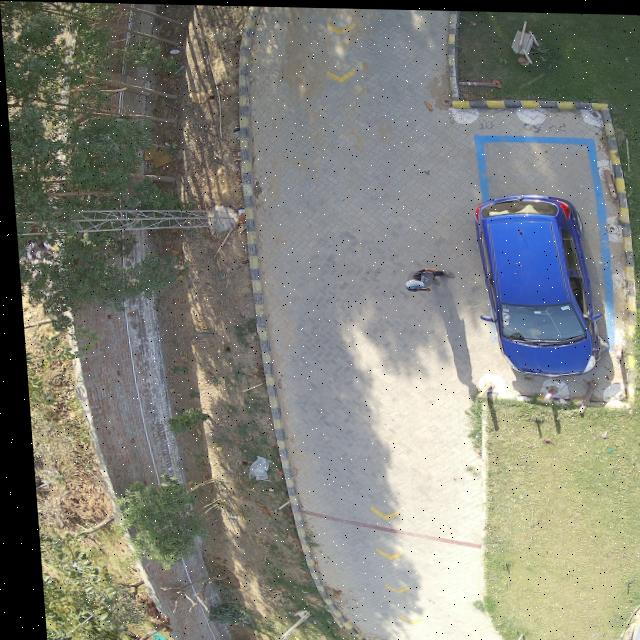car: (472, 191, 601, 374)
